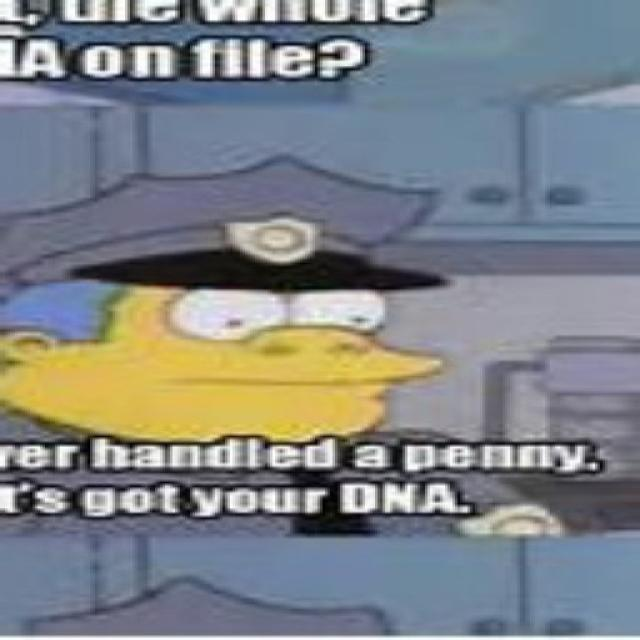Chief Wiggam: (1, 154, 454, 444)
